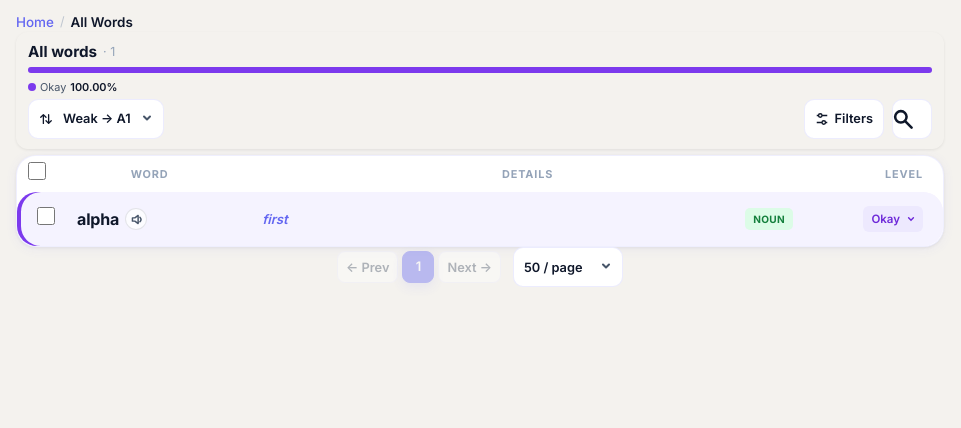
reports a failed level update and preserves the previous word level
The image size is (961, 428).
expect the link "alpha" is shown: met, box x1=77 y1=209 x2=119 y2=230
Click the button "Okay".
click(893, 219)  # box x1=863 y1=206 x2=923 y2=232
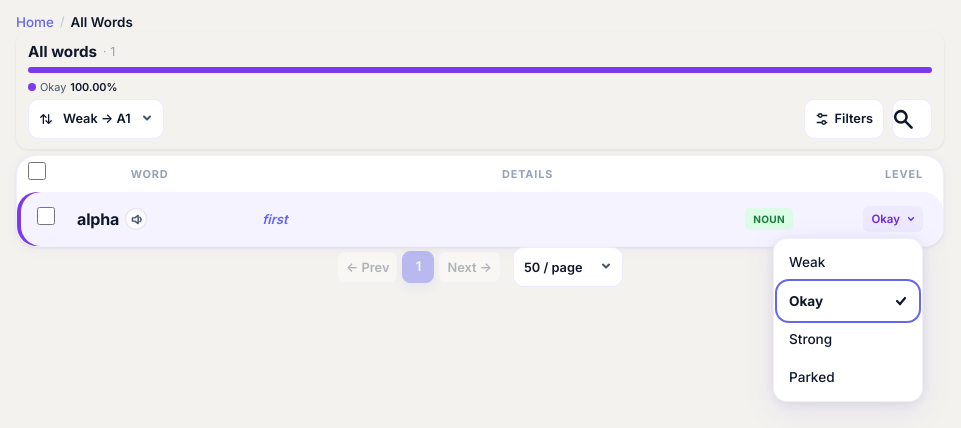
Click the button "Strong".
click(848, 339)  # box x1=779 y1=321 x2=917 y2=358
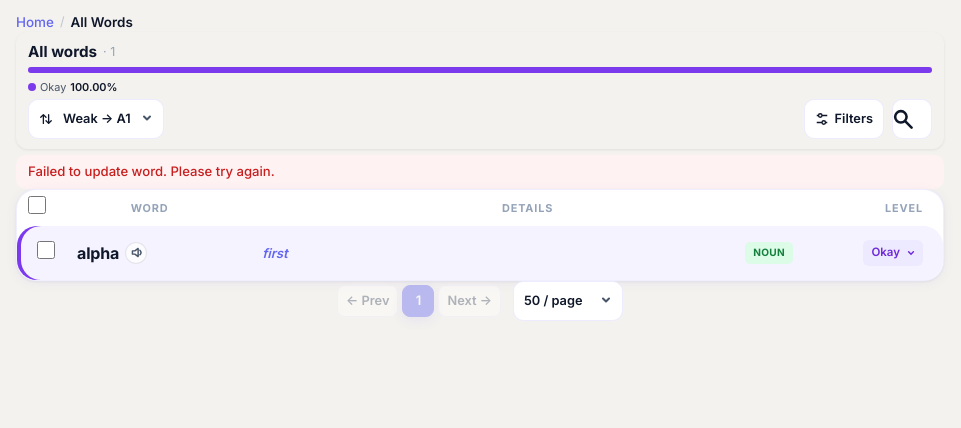
expect the button "Okay" is shown: met, box x1=863 y1=240 x2=923 y2=266
expect the message shows "Failed to update word": met, box x1=28 y1=163 x2=275 y2=179
